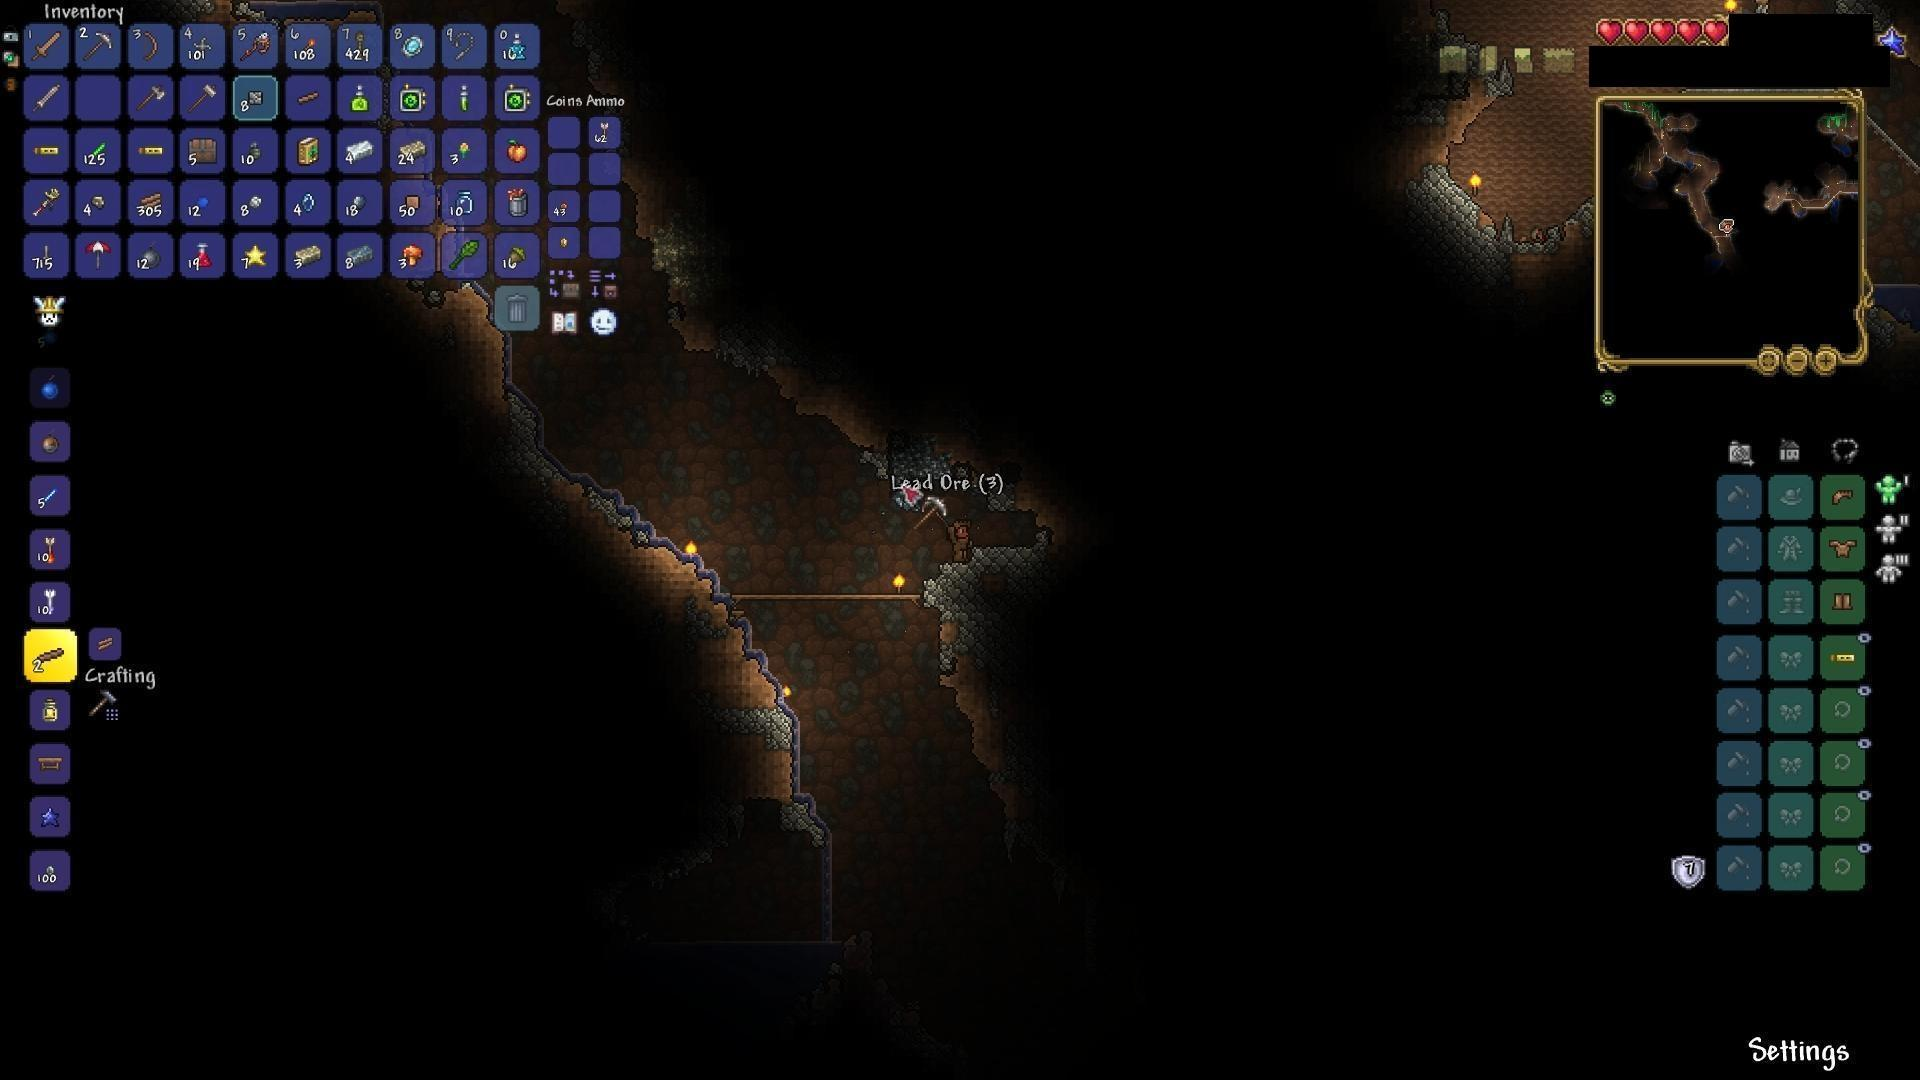heart: (1702, 17, 1733, 51), (1593, 16, 1626, 46), (1676, 15, 1704, 50), (1650, 16, 1676, 49), (1625, 15, 1651, 44)
liquid: (1858, 266, 1920, 303)
stone: (1402, 153, 1489, 285), (927, 543, 1044, 632), (721, 700, 796, 753), (782, 796, 827, 855)
